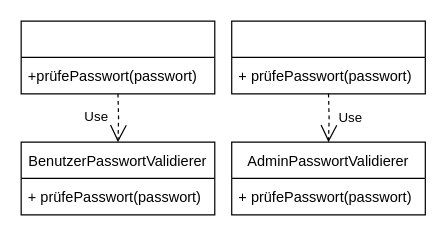
This 446x236 diagram has some shape labels left out. Each missing label, with the box of its shape:
Admin: (231, 20, 425, 94)
Benutzer: (20, 20, 215, 94)
